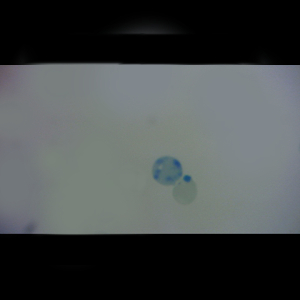aggregate reticulocyte: (151, 155, 184, 186)
erythrocyte: (171, 174, 199, 206)
